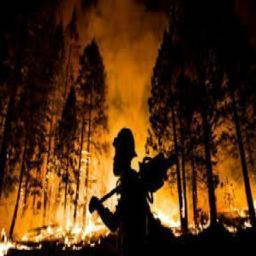Low smoke: (0, 0, 255, 163)
Medium fire: (0, 92, 253, 231)
